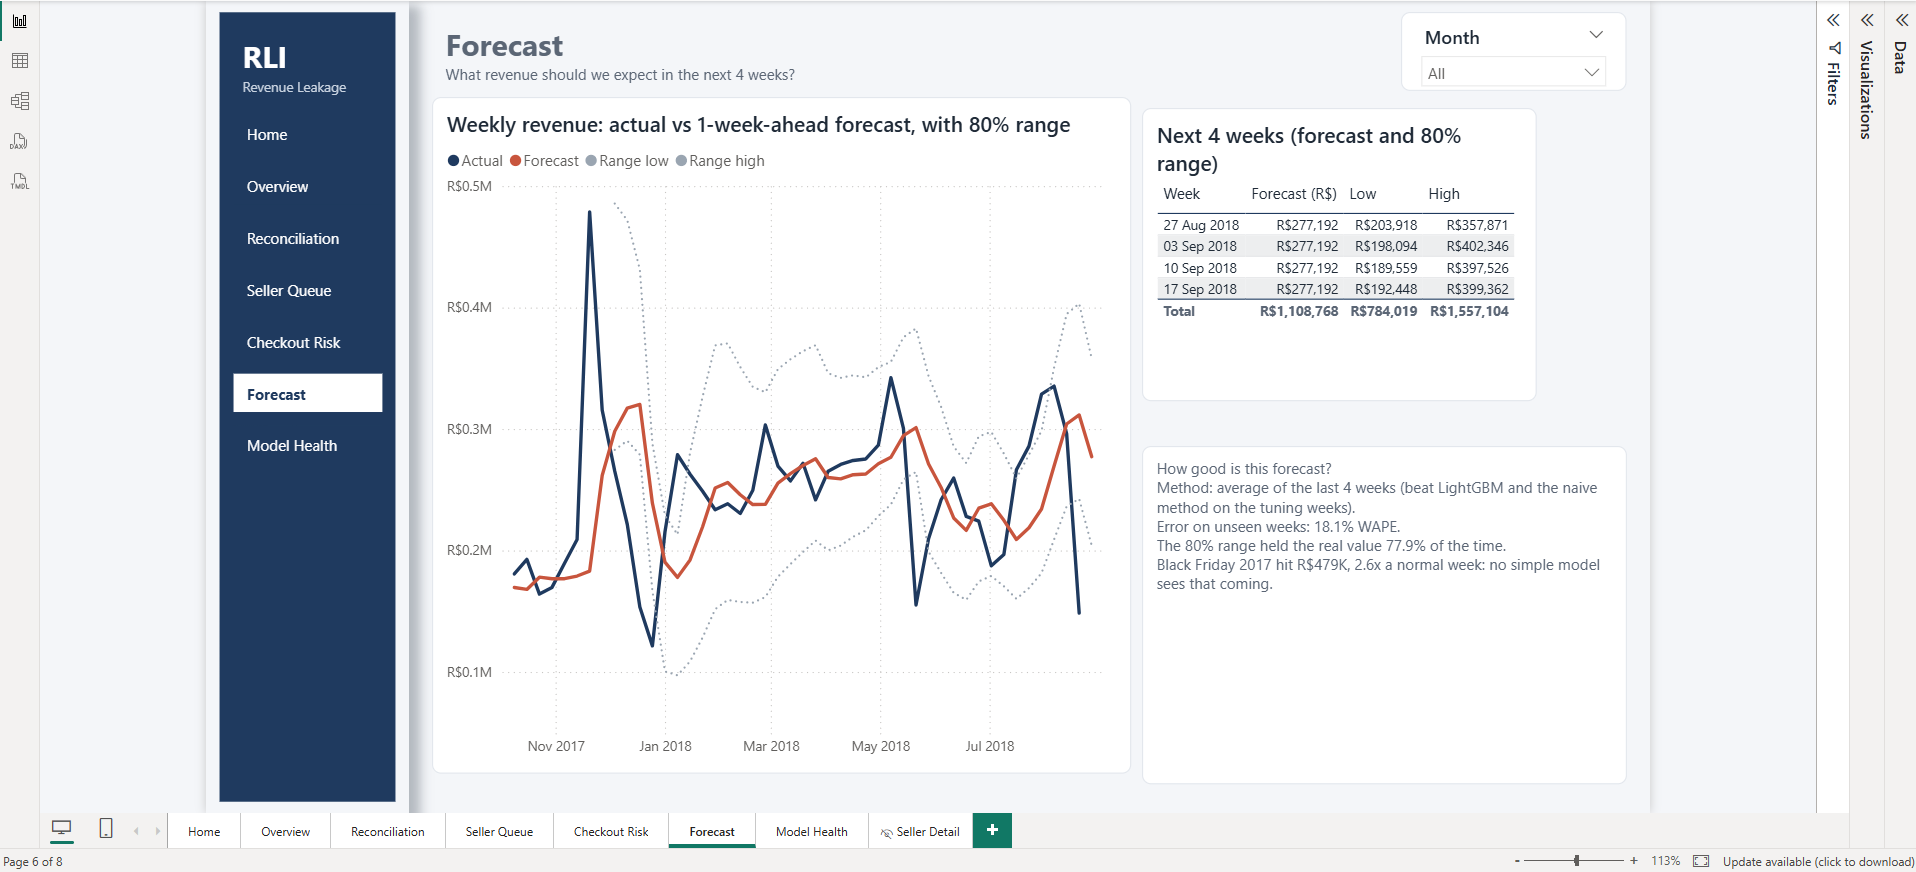

What the dashboard file says about the page in this screenshot:
{"tool":"powerbi","page":{"name":"Forecast","canvas":[1280,720],"ordinal":5},"visuals":[{"type":"shape","box":[0,0,180,720],"z":0},{"type":"pageNavigator","box":[12,90,156,330],"z":1},{"type":"textbox","box":[20,20,150,78],"z":2},{"type":"textbox","box":[200,10,600,75],"z":3},{"type":"slicer","fields":{"Values":["DimDate.Month"]},"box":[1060,10,200,70],"z":4},{"type":"lineChart","title":"Weekly revenue: actual vs 1-week-ahead forecast, with 80% range","fields":{"Y":["Sum(ml_revenue_forecast.actual)","Sum(ml_revenue_forecast.forecast)","Sum(ml_revenue_forecast.low)","Sum(ml_revenue_forecast.high)"],"Category":["ml_revenue_forecast.target_week"]},"box":[200,85,620,600],"z":5},{"type":"tableEx","title":"Next 4 weeks (forecast and 80% range)","fields":{"Values":["ml_revenue_forecast.target_week","Sum(ml_revenue_forecast.forecast)","Sum(ml_revenue_forecast.low)","Sum(ml_revenue_forecast.high)"]},"box":[830,95,350,260],"z":6},{"type":"textbox","box":[830,395,430,300],"z":7}]}

Visuals, with their boxes on the page's 1280x720 design canvas (x1, y1, x2, y2). These are canvas units, not pixel positions in the 1916x872 screenshot, which may show the page scaled, cropped or inside an application window:
shape: bbox=(0, 0, 180, 720)
pageNavigator: bbox=(12, 90, 168, 420)
textbox: bbox=(20, 20, 170, 98)
textbox: bbox=(200, 10, 800, 85)
slicer - DimDate.Month: bbox=(1060, 10, 1260, 80)
"Weekly revenue: actual vs 1-week-ahead forecast, with 80% range" lineChart: bbox=(200, 85, 820, 685)
"Next 4 weeks (forecast and 80% range)" tableEx: bbox=(830, 95, 1180, 355)
textbox: bbox=(830, 395, 1260, 695)
